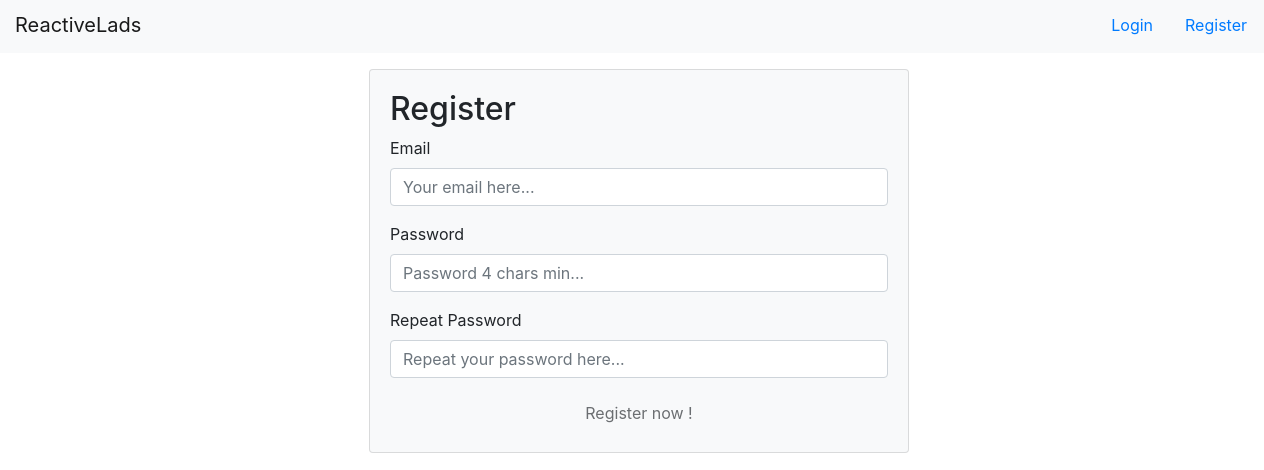
Test case: <RegisterForm/> e2e › Button validation › should be enabled on valid input
Type "i@am.valid" into the field named "email".
click(639, 187); type("i@am.valid")  # box [390,168,888,206]
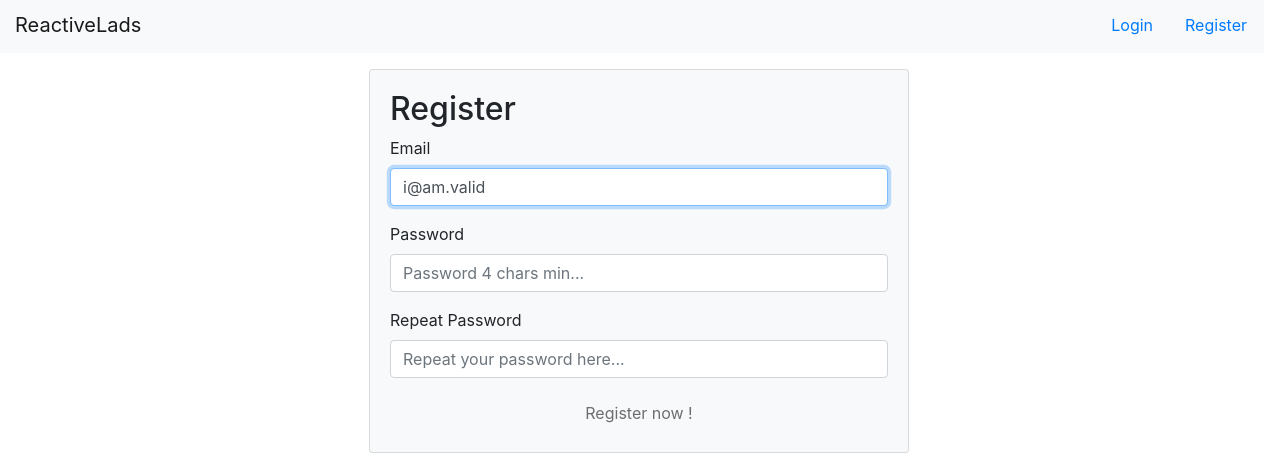
Type "superValidPass" into the password field named "password".
click(639, 273); type("superValidPass")  # box [390,254,888,292]
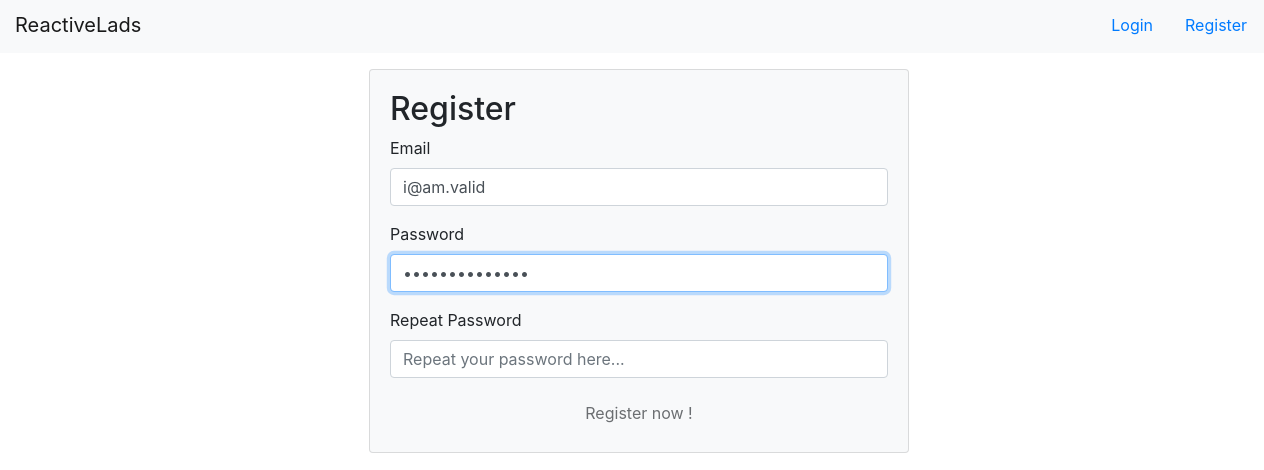
Type "superValidPass" into the password field named "repeatPassword".
click(639, 359); type("superValidPass")  # box [390,340,888,378]
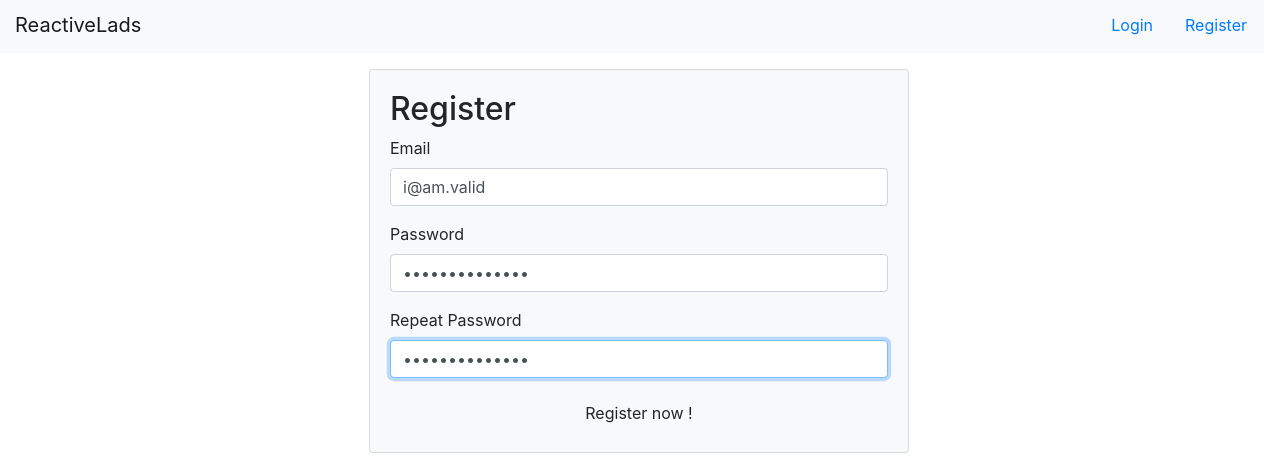
expect the button "Register now !" is enabled: met, box [390,394,888,432]
